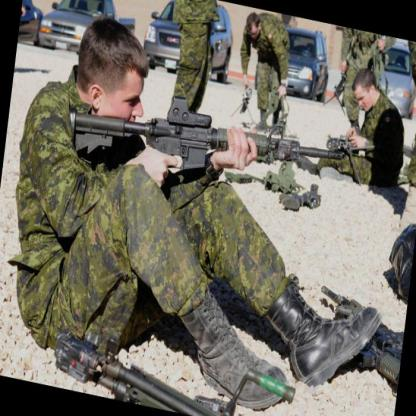rifle: (68, 82, 345, 203)
